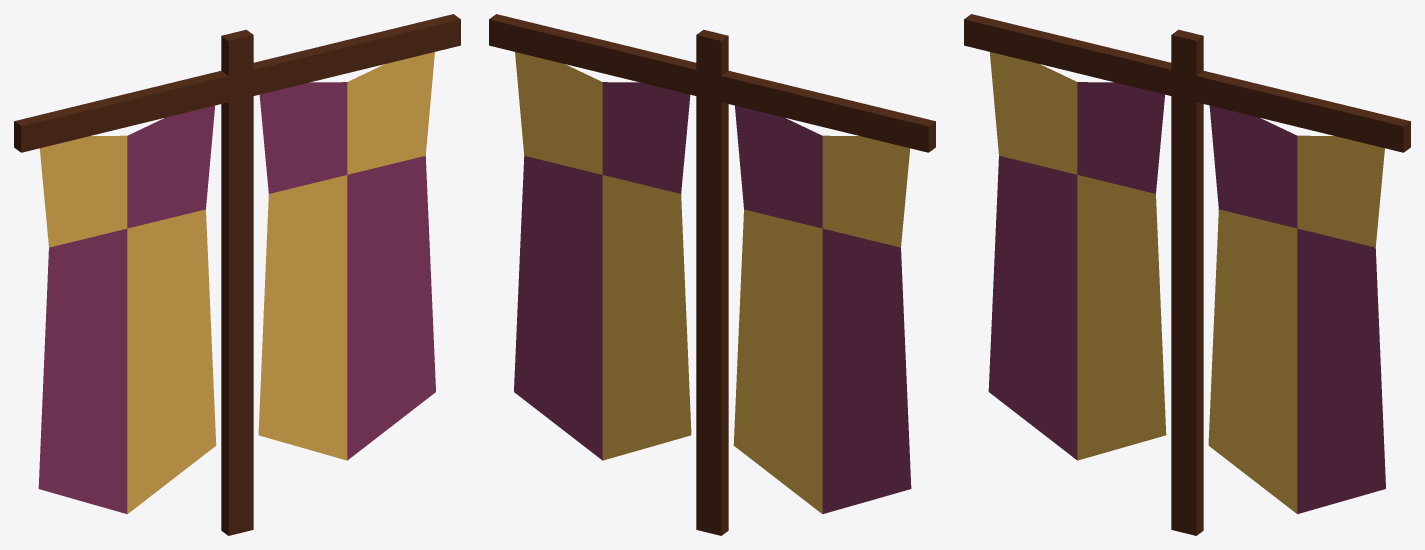
The model's file is EstandarteMykker.fbx.
The picture shows the model from 3 angles, left to right: view 1: azimuth 30°, elevation 25°; view 2: azimuth 150°, elevation 25°; view 3: azimuth 330°, elevation 25°; orthographic projection.
Parts seen in each view (by area): view 1: Estandarte.002; view 2: Estandarte.002; view 3: Estandarte.002.
Boxes of the visible parts, x1,y1,x2,y2 form: Estandarte.002: (14,14,460,535); Estandarte.002: (489,14,935,535); Estandarte.002: (964,14,1410,535).
Size of the model in its own units: 175 by 188 by 5.
